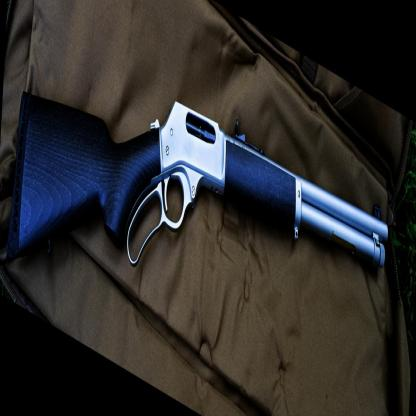rifle: (7, 0, 389, 416)
